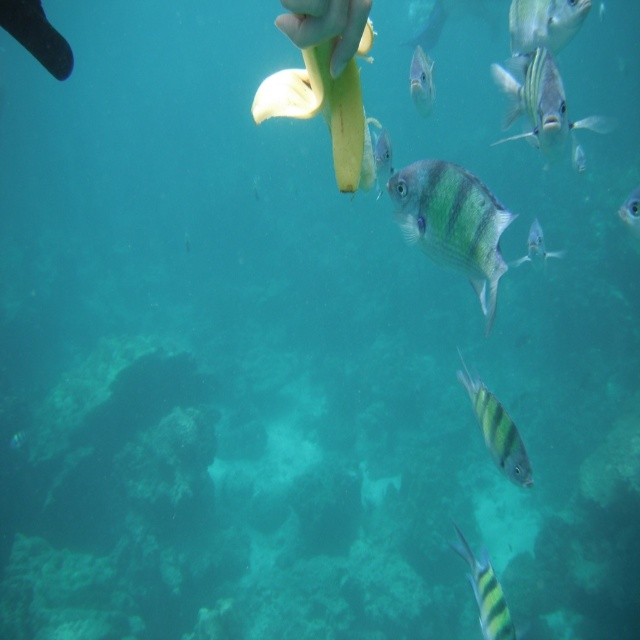Fish: (371, 0, 640, 640), (8, 429, 33, 451), (254, 179, 262, 206), (184, 229, 189, 258)
